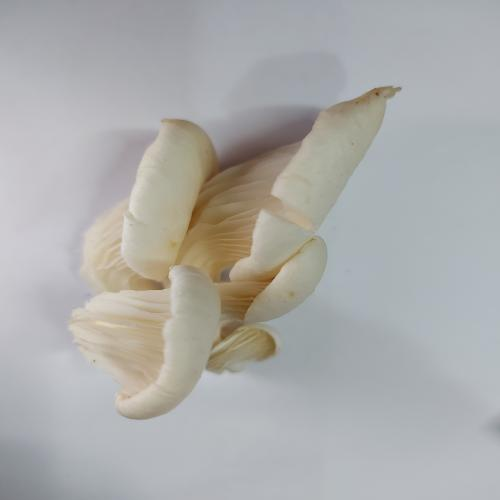Oyster Mushroom: (68, 84, 403, 420)
